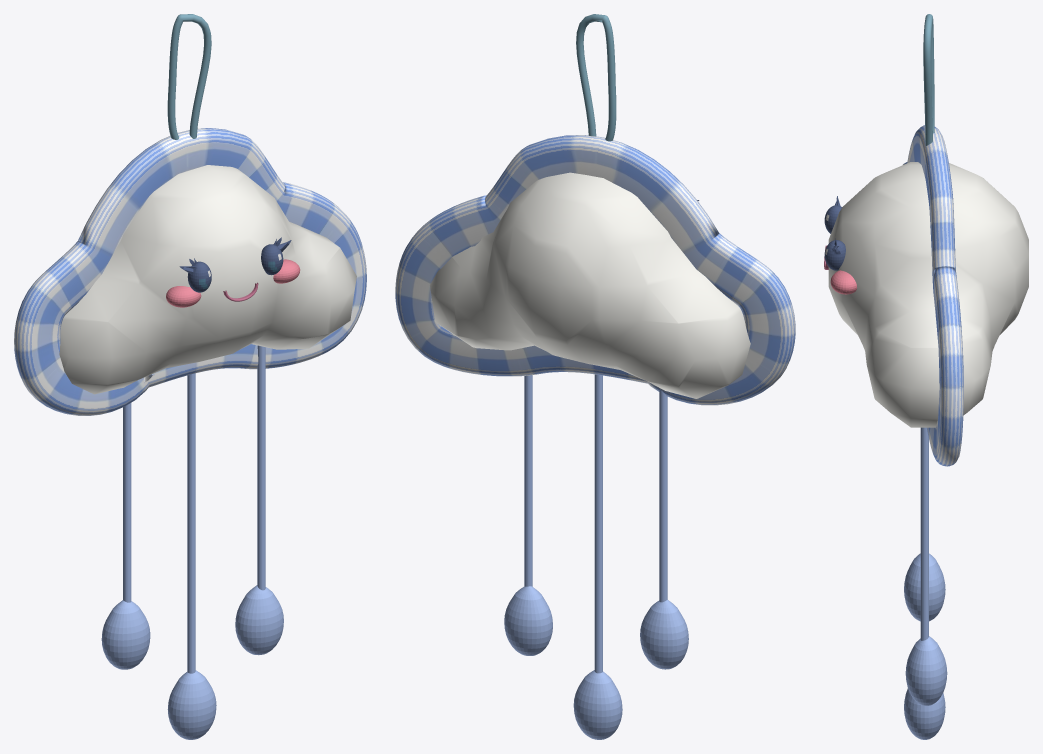
Rendered from yun1.0.fbx.
The picture shows the model from 3 angles, left to right: view 1: azimuth 30°, elevation 25°; view 2: azimuth 150°, elevation 25°; view 3: azimuth 270°, elevation 25°; orthographic projection.
Parts seen in each view (by area): view 1: 贝塞尔曲线.002; view 2: 贝塞尔曲线.002; view 3: 贝塞尔曲线.002.
Boxes of the visible parts, x1=… form: 贝塞尔曲线.002: x1=14, y1=14, x2=366, y2=739; 贝塞尔曲线.002: x1=395, y1=14, x2=795, y2=739; 贝塞尔曲线.002: x1=824, y1=14, x2=1028, y2=739.
Bounding box in the file's own units: 317 × 588 × 152.
Materials: 9 (2 with a texture image).
